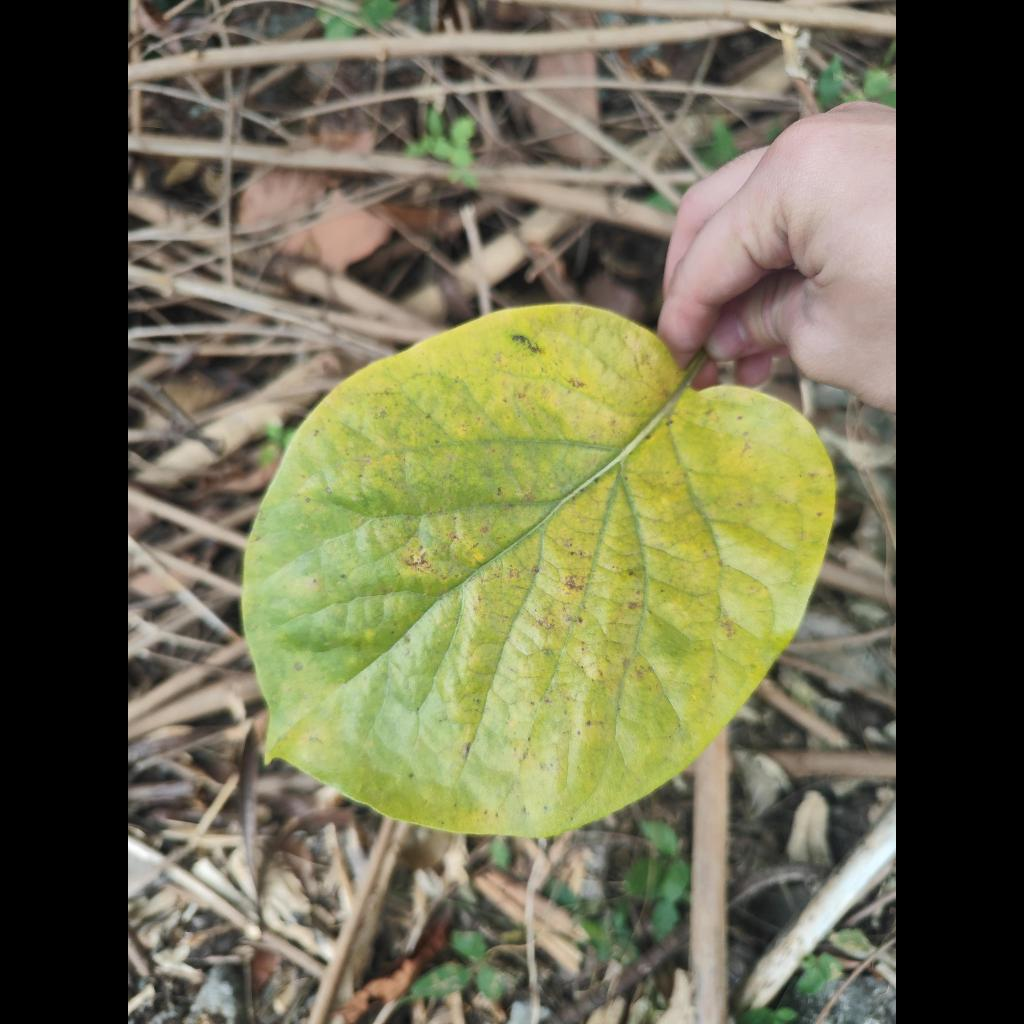nutrient_deficiency: (243, 305, 835, 837)
